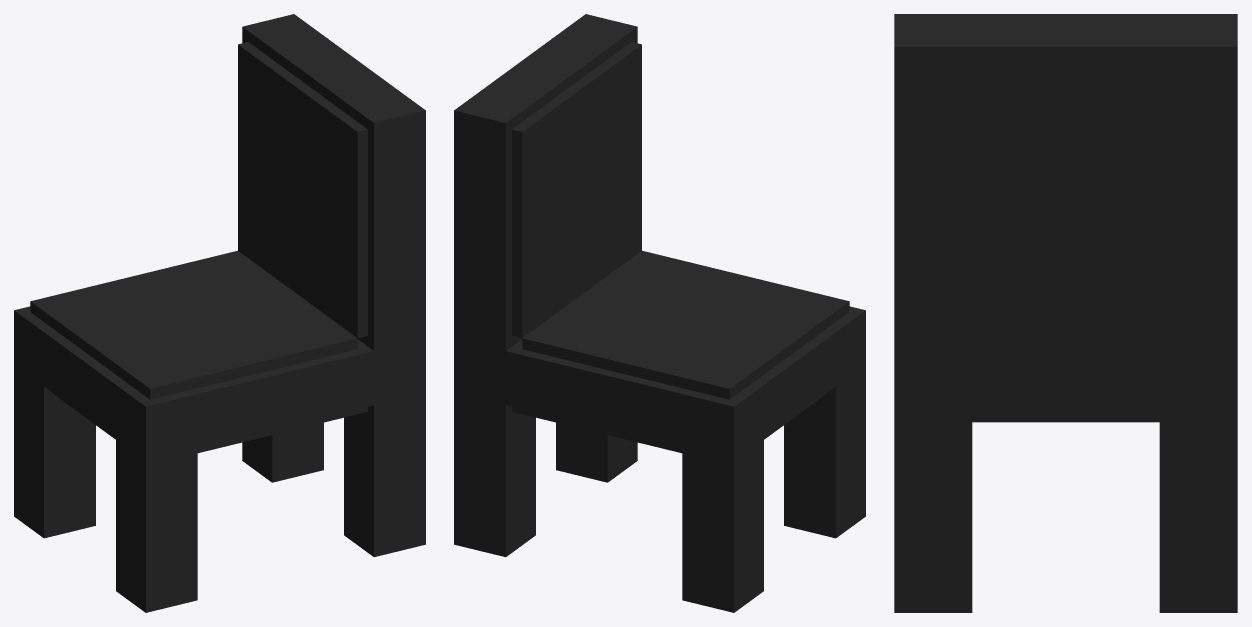
The model's file is Chair.obj.
The picture shows the model from 3 angles, left to right: view 1: azimuth 30°, elevation 25°; view 2: azimuth 150°, elevation 25°; view 3: azimuth 270°, elevation 25°; orthographic projection. The views are drawn at different scales.
Parts seen in each view (by area): view 1: Chair; view 2: Chair; view 3: Chair.
Part boxes in pixels (box(x1,y1,x2,y2)): Chair: box(14, 14, 425, 612); Chair: box(454, 14, 865, 612); Chair: box(894, 14, 1237, 612).
Size of the model in its own units: 27 by 40 by 22.
Materials: 1 (1 with a texture image).
